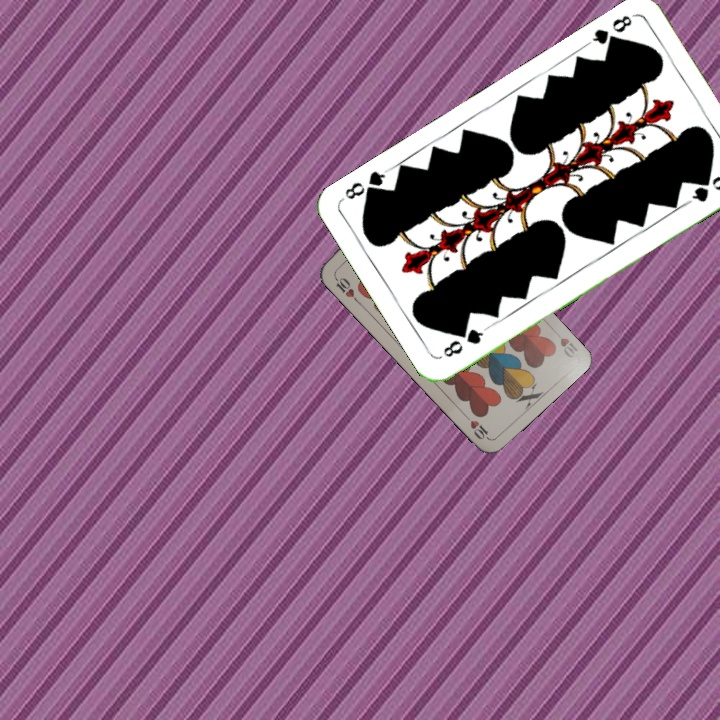G8: (583, 10, 636, 52), (439, 323, 490, 360)
H10: (330, 271, 360, 305), (556, 334, 581, 361)
